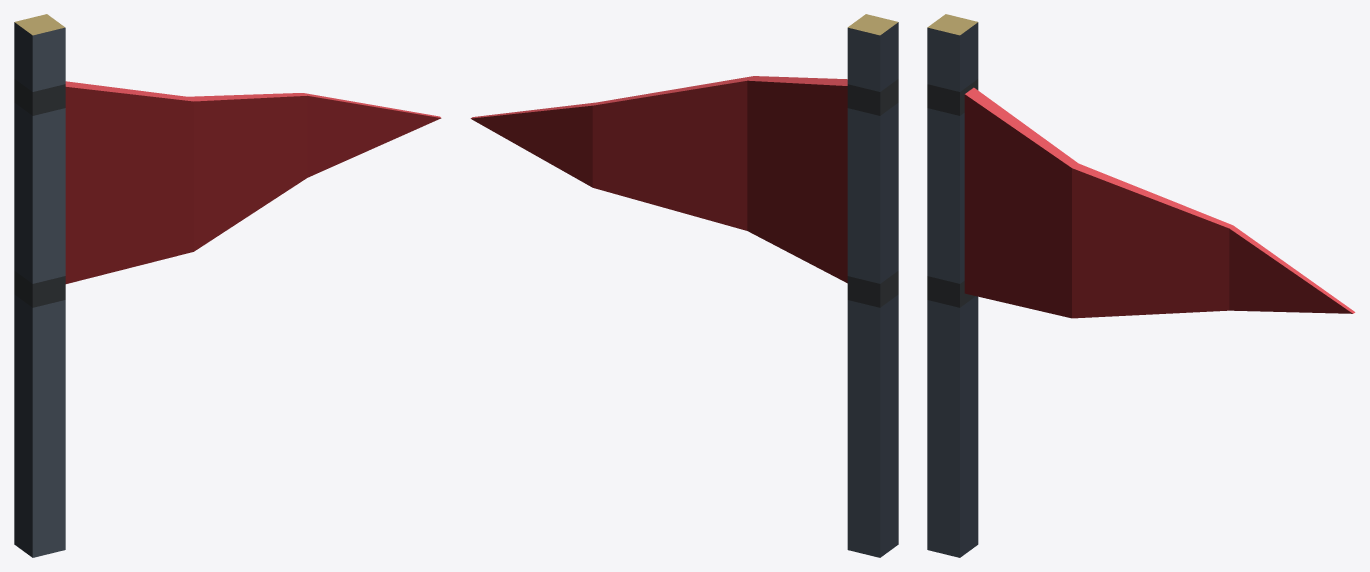
File: TB_D_Prop_Flag_A.FBX
3 views of the same model, side by side, from view 1: azimuth 30°, elevation 25°; view 2: azimuth 150°, elevation 25°; view 3: azimuth 330°, elevation 25° (orthographic).
Parts seen in each view (by area): view 1: TB_D_Prop_Flag_A; view 2: TB_D_Prop_Flag_A; view 3: TB_D_Prop_Flag_A.
Boxes of the visible parts, <box> form: TB_D_Prop_Flag_A: <box>14,14,441,557</box>; TB_D_Prop_Flag_A: <box>470,14,898,557</box>; TB_D_Prop_Flag_A: <box>927,14,1355,557</box>.
Bounding box in the file's own units: 2.19 × 2.62 × 0.2422.
